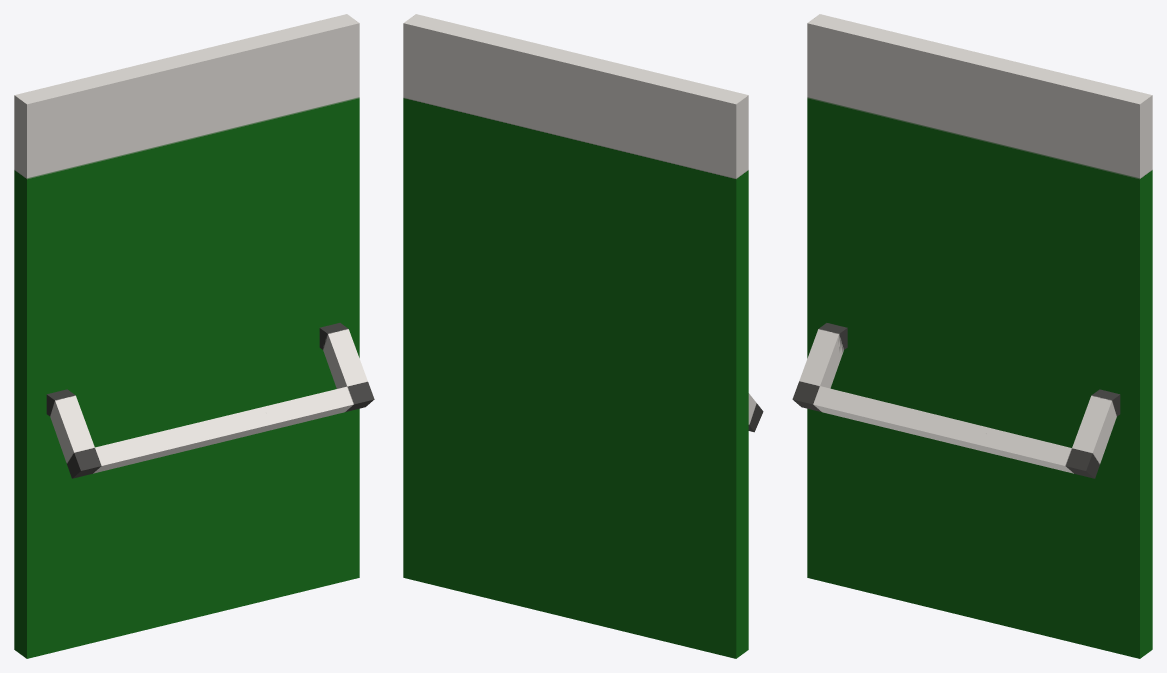
The model's file is entrada.fbx.
The picture shows the model from 3 angles, left to right: view 1: azimuth 30°, elevation 25°; view 2: azimuth 150°, elevation 25°; view 3: azimuth 330°, elevation 25°; orthographic projection.
Parts seen in each view (by area): view 1: porta de entrada; view 2: porta de entrada; view 3: porta de entrada.
Boxes of the visible parts, x1=… form: porta de entrada: x1=14, y1=14, x2=374, y2=658; porta de entrada: x1=403, y1=14, x2=763, y2=658; porta de entrada: x1=792, y1=14, x2=1152, y2=658.
Bounding box in the file's own units: 176 × 280 × 42.91.
